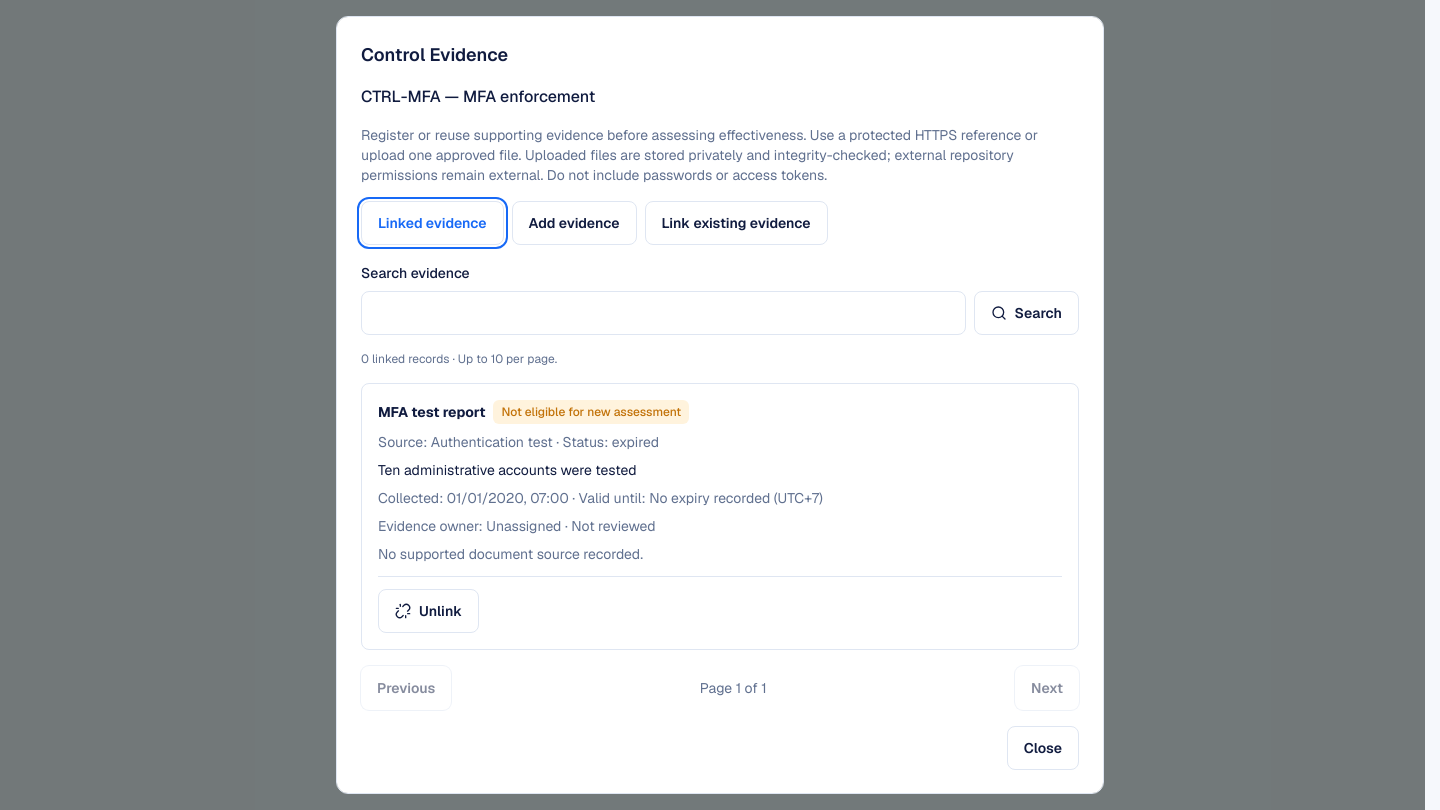
Test case: Control Evidence dialog › displays expired linked history without permitting candidate selection
Check: the text "Not eligible for new assessment" is shown, box [493,400,689,424]
Click the button "Link existing evidence" at (736, 223), box [644,201,828,245]
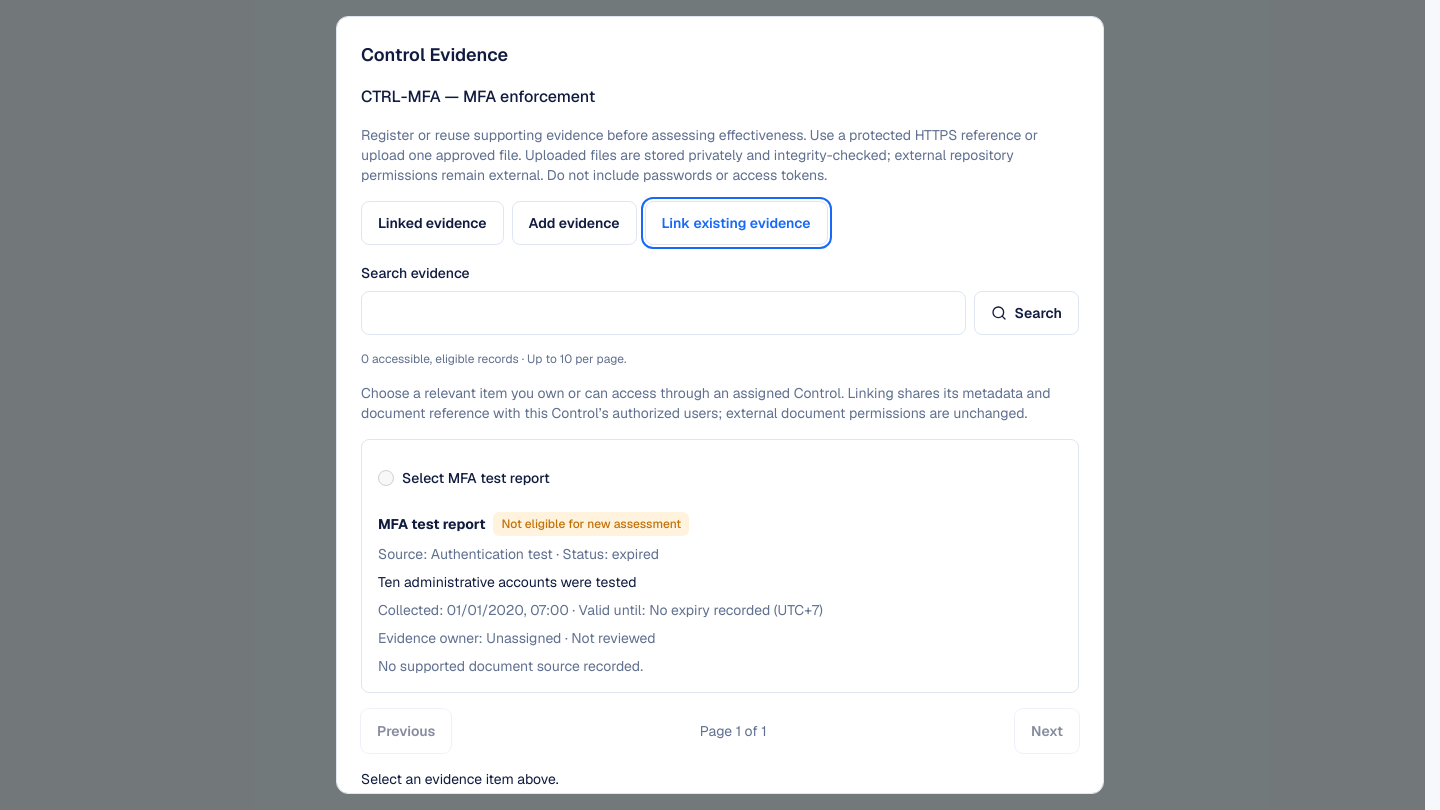
Check: the radio button is disabled, box [378,470,394,486]
